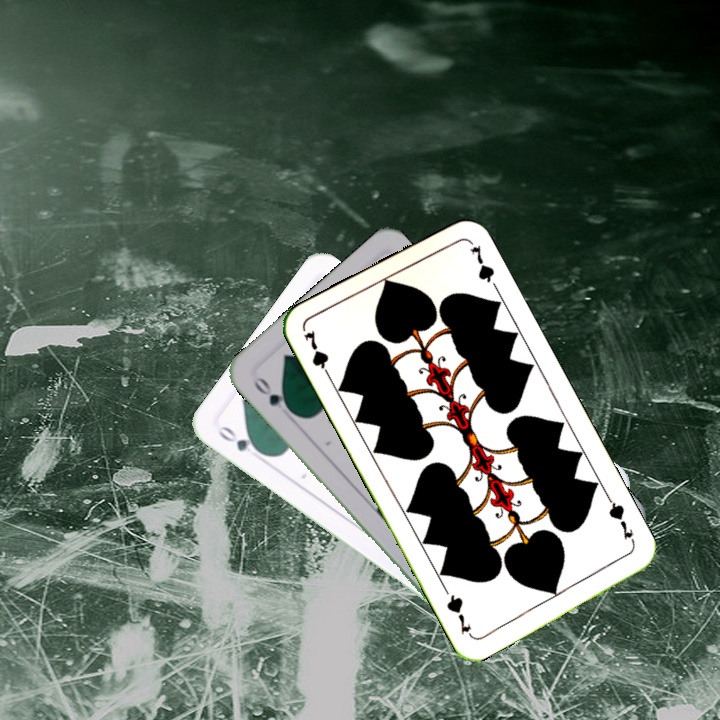G7: (299, 326, 335, 383), (603, 494, 638, 549)
GO: (250, 371, 296, 417), (213, 422, 267, 458)
